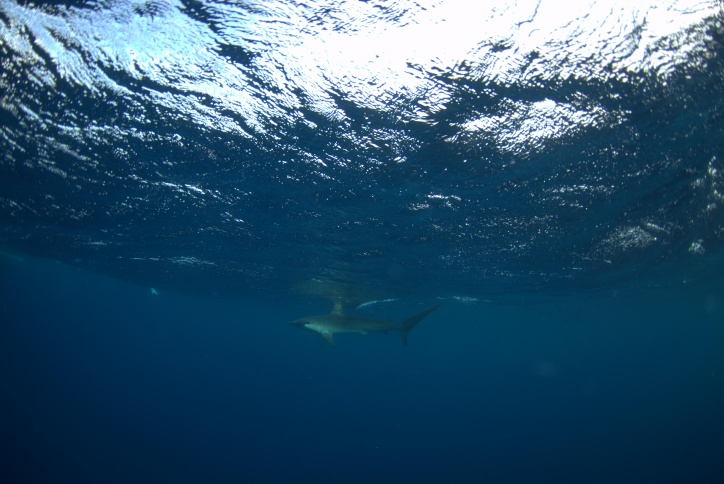Hammer: (1, 124, 479, 336), (275, 270, 479, 386)
